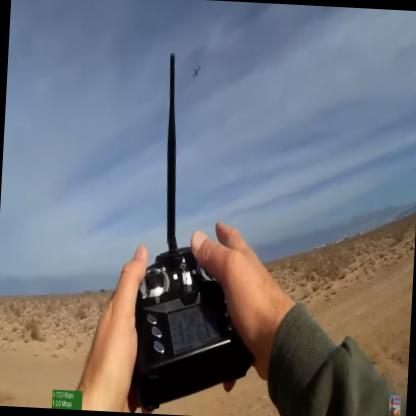drone: (191, 63, 204, 79)
